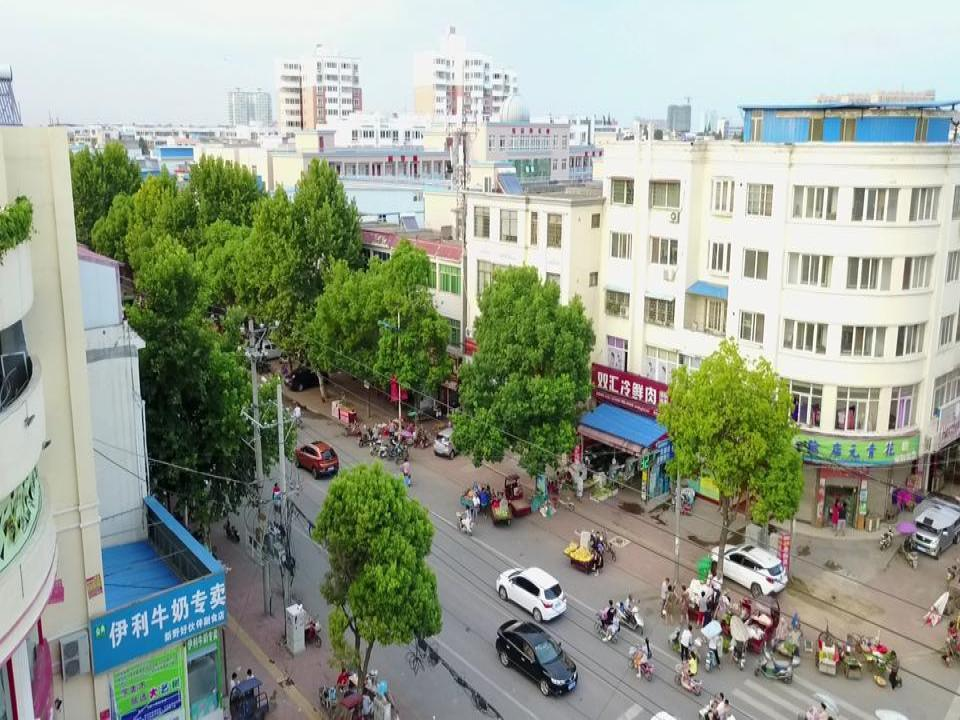car: (491, 622, 577, 694), (709, 542, 787, 594), (497, 567, 566, 620), (913, 497, 960, 555), (295, 441, 340, 474), (285, 362, 328, 391), (433, 425, 473, 456), (256, 340, 285, 359)
